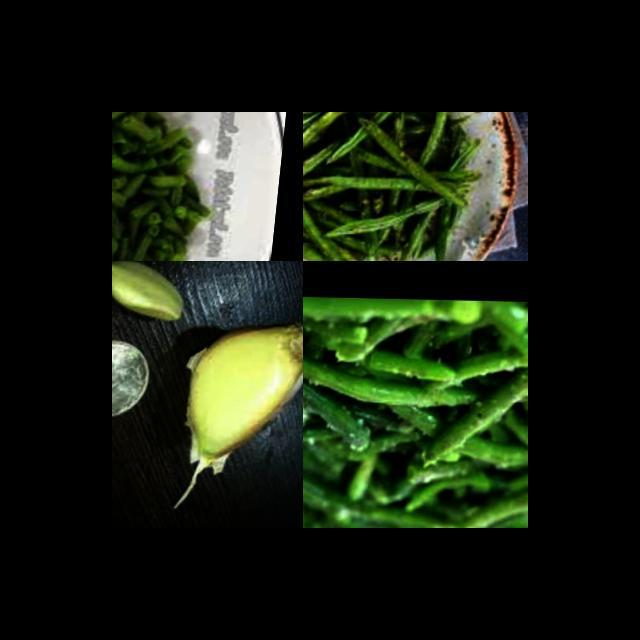garlic: (174, 305, 303, 498), (112, 261, 208, 325)
